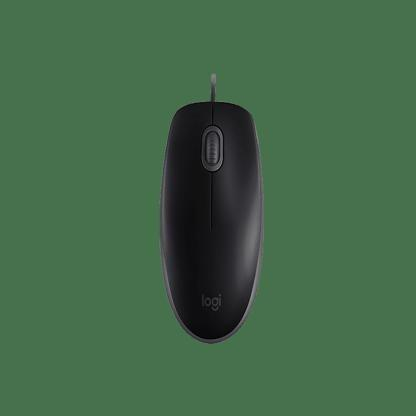not trash: (160, 95, 269, 345)
